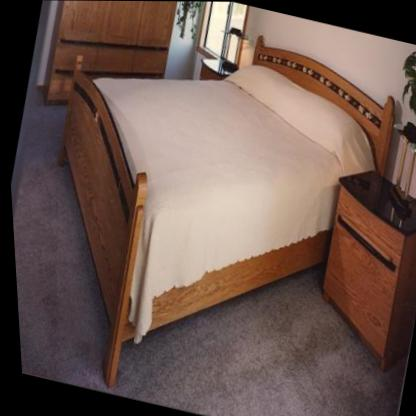Bed: (57, 37, 393, 389)
Carpet: (111, 273, 391, 416)
Closet: (43, 0, 178, 106)
Nightstand: (319, 171, 416, 373)
